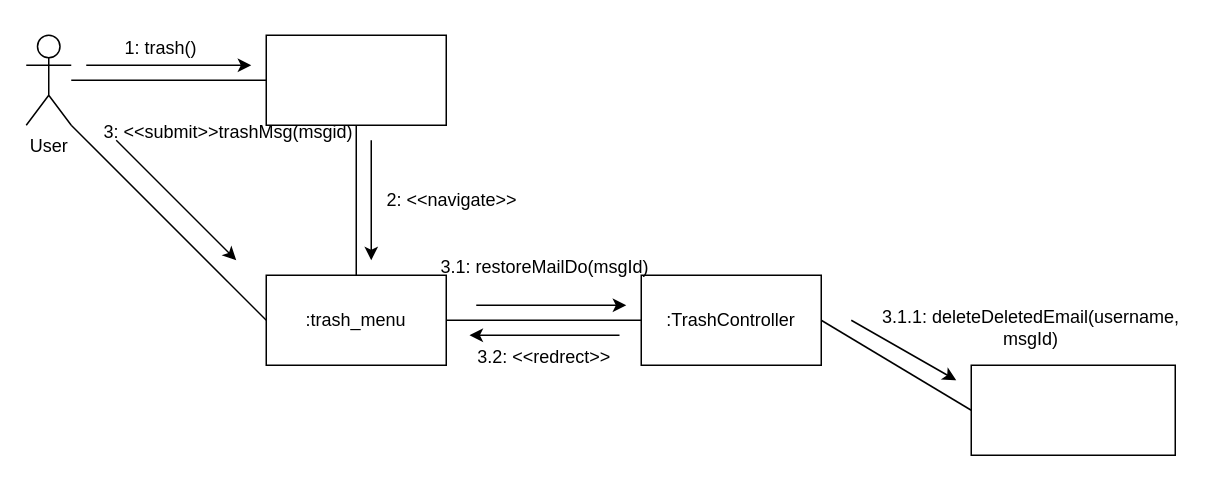
Image size: 1206x482. Some labels were removed from this diagram. Here are the shapes that lost their labels. From the top down, the centre of each, then its label:
(355,79): :main_menu
(1072,409): :DeletedEmailsService
